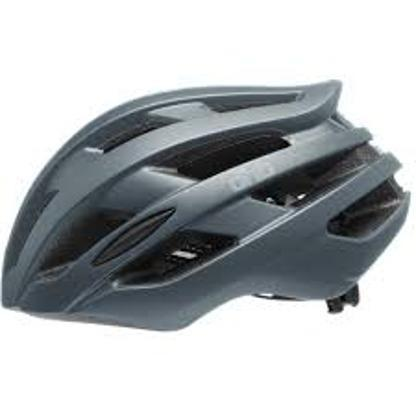not trash: (5, 82, 410, 329)
